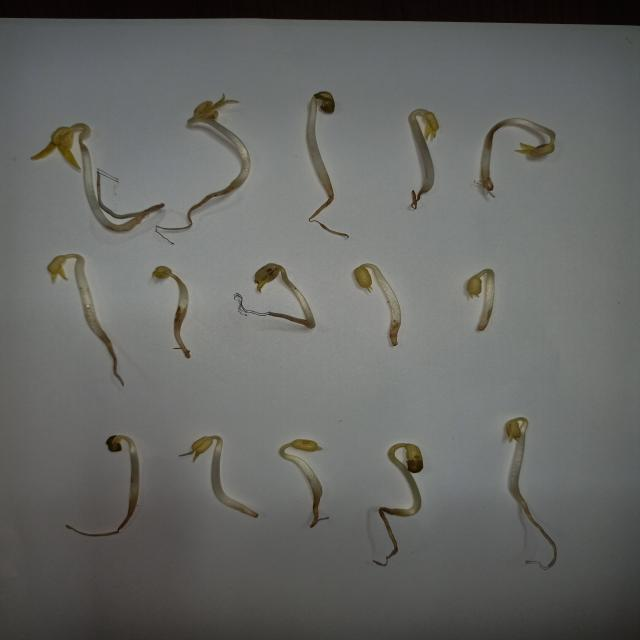leaf: (35, 124, 65, 164), (194, 96, 238, 120), (392, 444, 426, 474), (517, 142, 555, 159), (253, 263, 277, 289), (419, 111, 438, 141), (49, 257, 69, 285), (506, 416, 528, 441), (192, 438, 214, 462), (354, 267, 372, 291), (317, 92, 333, 113), (149, 265, 169, 279), (294, 442, 321, 452), (467, 276, 478, 296), (107, 437, 121, 452)
root: (171, 192, 252, 243), (68, 498, 144, 542), (508, 504, 556, 566), (303, 187, 348, 236), (228, 292, 280, 327), (99, 335, 128, 387), (175, 307, 193, 360), (380, 508, 397, 562), (138, 201, 164, 227), (311, 490, 324, 527), (474, 179, 499, 196), (411, 192, 424, 210), (390, 325, 400, 346), (248, 507, 260, 521), (474, 326, 492, 332)
stem: (67, 127, 137, 234), (474, 116, 558, 178), (55, 255, 111, 334), (189, 118, 250, 190), (209, 434, 248, 519), (358, 264, 400, 324), (282, 264, 320, 328), (305, 95, 331, 186), (409, 111, 435, 192), (503, 415, 526, 503), (397, 444, 422, 516), (278, 446, 318, 491), (118, 434, 142, 497), (480, 268, 495, 326), (170, 273, 194, 307)
